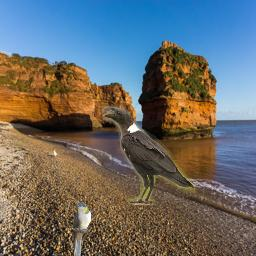Crow: (102, 106, 195, 205)
Cuckoo: (72, 202, 91, 256)
